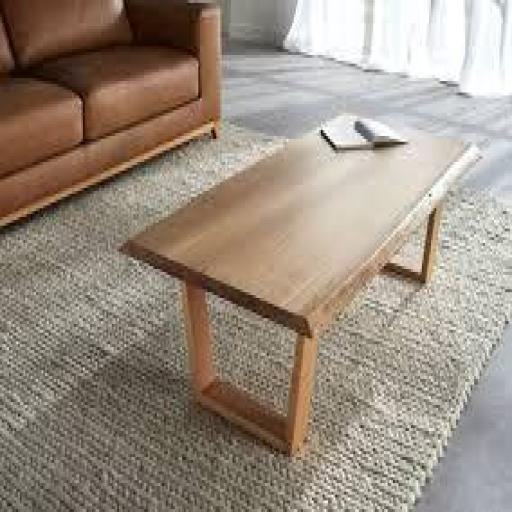table: (129, 107, 475, 385)
